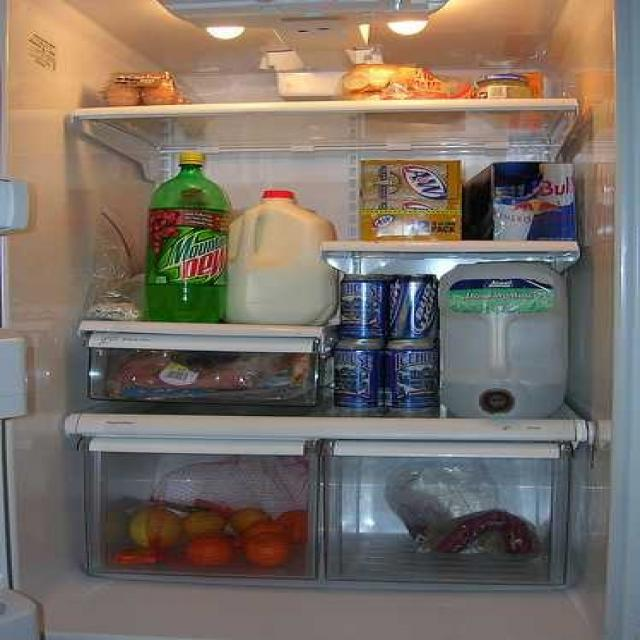refrigerator: (9, 0, 608, 638)
